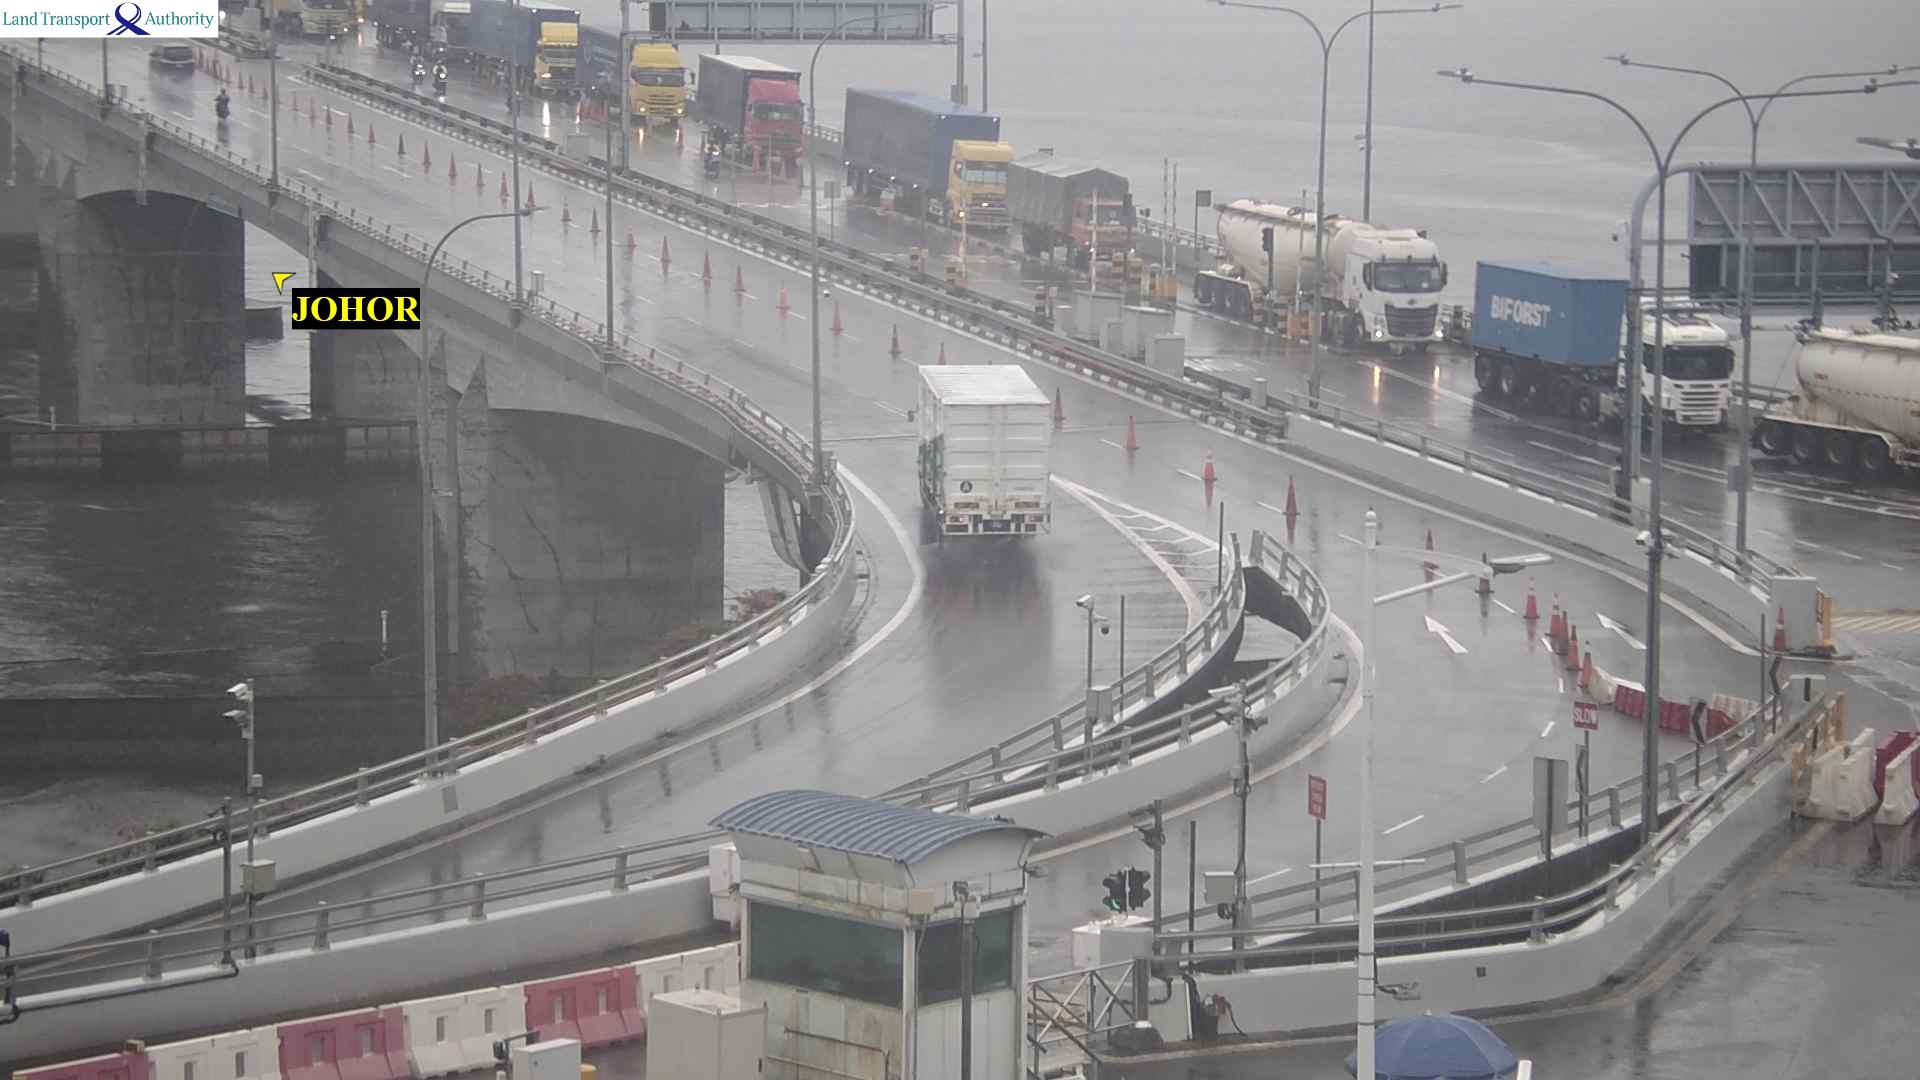vehicle-secondlink-johor: (914, 367, 1051, 549), (149, 43, 195, 78), (217, 82, 231, 120)
vehicle-secondlink-singapore: (1481, 262, 1764, 444), (1198, 212, 1450, 328), (857, 88, 1066, 218), (446, 0, 704, 92), (1322, 216, 1461, 295), (1764, 418, 1920, 487), (693, 55, 799, 152), (1010, 170, 1134, 250), (260, 0, 366, 39), (698, 139, 718, 174), (437, 60, 453, 92), (410, 53, 424, 83)
